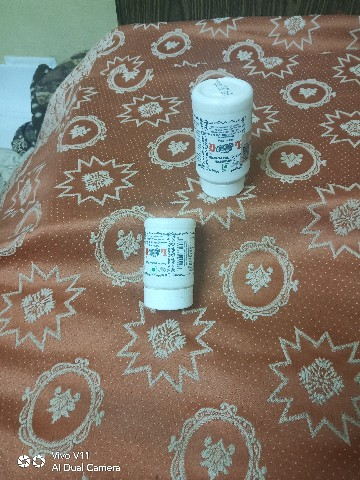lgasafoetidapowder large: (176, 66, 271, 205)
lgasafoetidapowder small: (130, 191, 206, 338)
